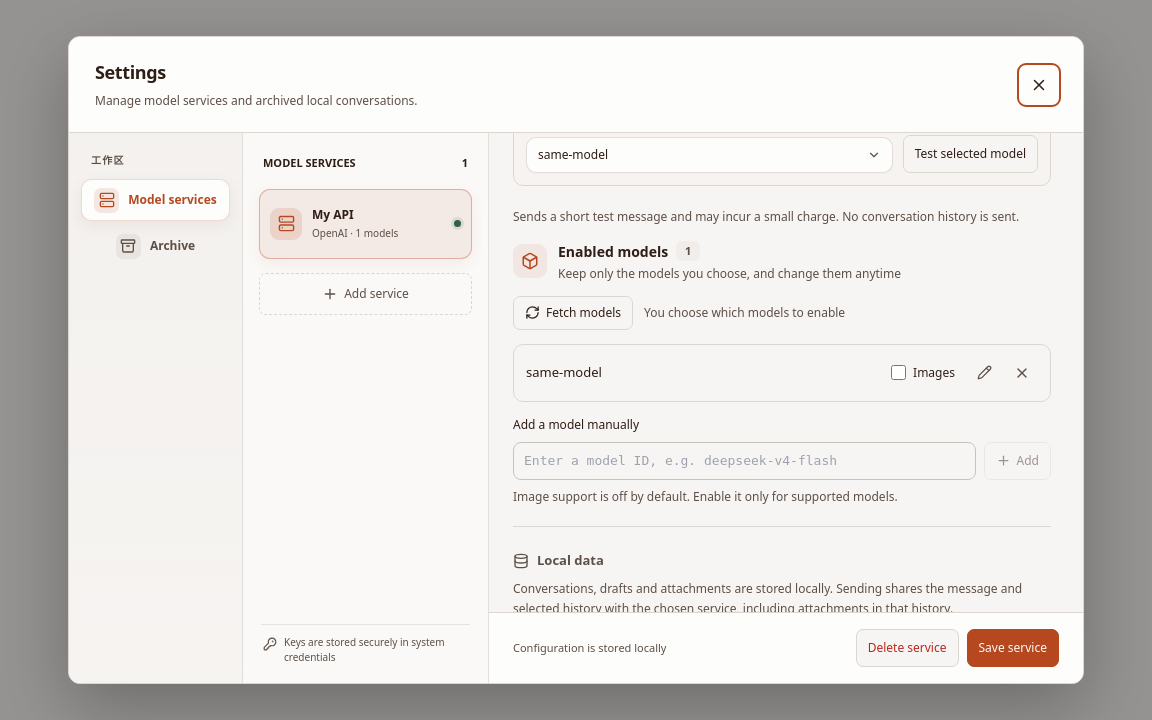
Test: AI service model selection › shows one summary for equal IDs and names, with explicitly labelled editing on demand
The image size is (1152, 720).
(page scrolled)
Expected: the text "same-model" is shown once, [526, 363, 602, 381]
Click the button named "Edit model: same-model": (984,373) [968, 357, 1000, 389]
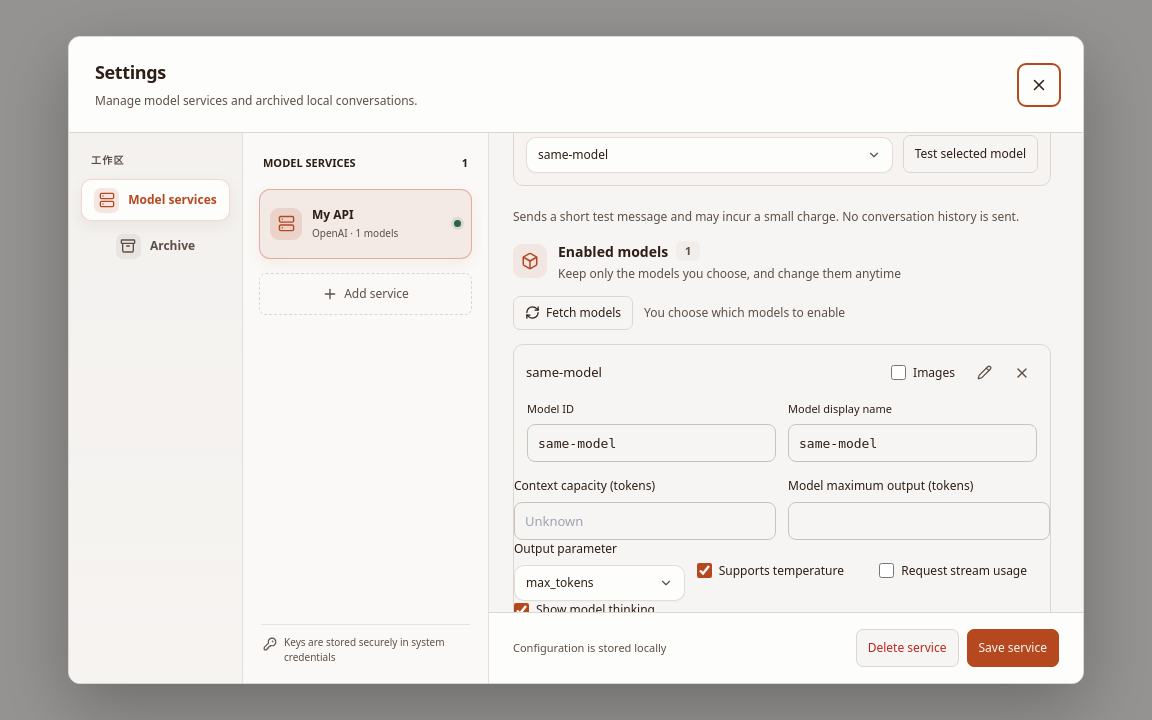
Result: the field labelled "Model ID" holds "same-model" at [527, 424, 776, 462]
Result: the field labelled "Model display name" holds "same-model" at [788, 424, 1037, 462]
